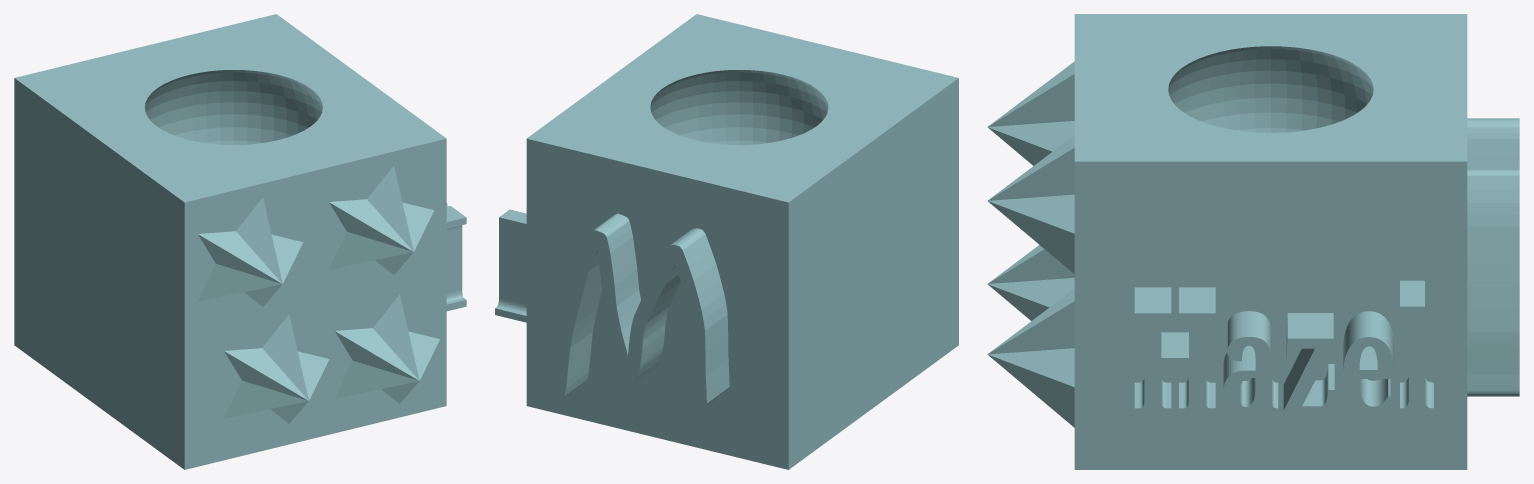
File: Powerful Bombul-Uusam.glb
3 views of the same model, side by side, from view 1: azimuth 30°, elevation 25°; view 2: azimuth 150°, elevation 25°; view 3: azimuth 270°, elevation 25° (orthographic). The views are drawn at different scales.
Visible parts, largest first — view 1: Mesh_Mesh_head_geo.001_lambert2SG.001; view 2: Mesh_Mesh_head_geo.001_lambert2SG.001; view 3: Mesh_Mesh_head_geo.001_lambert2SG.001.
Boxes of the visible parts, x1,y1,x2,y2 form: Mesh_Mesh_head_geo.001_lambert2SG.001: (14, 14, 466, 469); Mesh_Mesh_head_geo.001_lambert2SG.001: (495, 14, 958, 469); Mesh_Mesh_head_geo.001_lambert2SG.001: (987, 14, 1519, 469).
Bounding box in the file's own units: 0.047 × 0.039 × 0.061.
